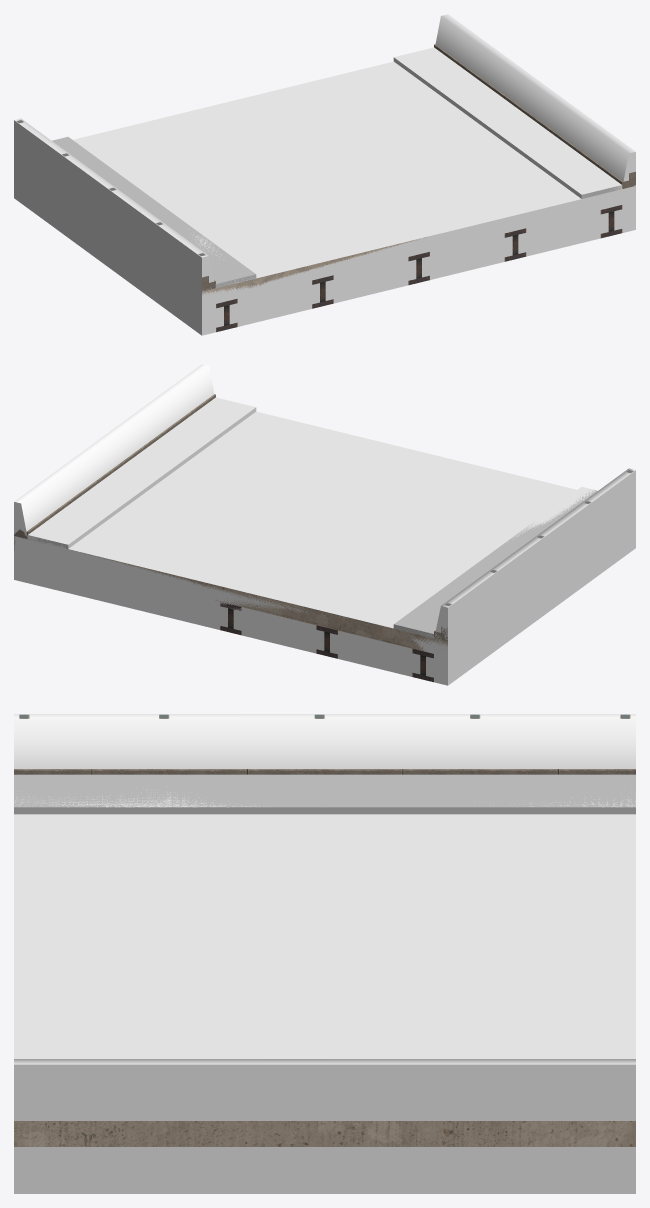
The model's file is street_overpass_A.fbx.
The picture shows the model from 3 angles, top to bottom: view 1: azimuth 30°, elevation 25°; view 2: azimuth 150°, elevation 25°; view 3: azimuth 270°, elevation 25°; orthographic projection. The views are drawn at different scales.
Parts seen in each view (by area): view 1: street_overpass_A_COL, street_overpass_A; view 2: street_overpass_A_COL, street_overpass_A; view 3: street_overpass_A_COL, street_overpass_A.
Boxes of the visible parts, left/top/right/bottom form: street_overpass_A_COL: left=14, top=14, right=635, bottom=335; street_overpass_A: left=16, top=44, right=635, bottom=332; street_overpass_A_COL: left=14, top=364, right=635, bottom=685; street_overpass_A: left=14, top=394, right=633, bottom=682; street_overpass_A_COL: left=14, top=714, right=635, bottom=1193; street_overpass_A: left=14, top=714, right=635, bottom=1146.
Bounding box in the file's own units: 1600 × 275 × 1200.
